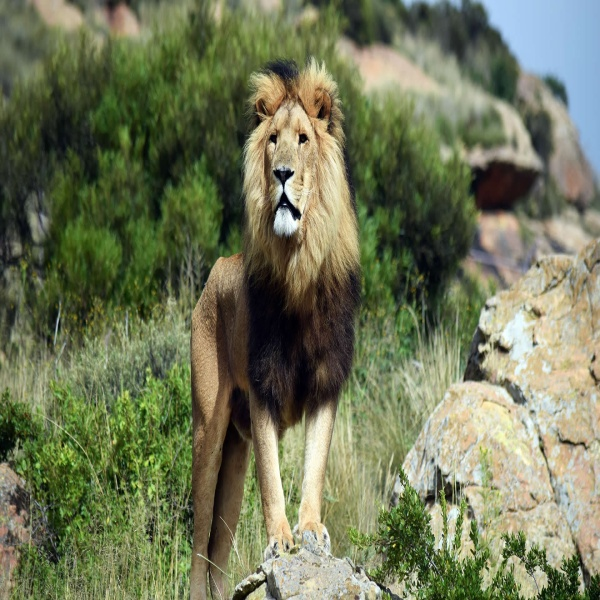Lion: (185, 54, 370, 600)
